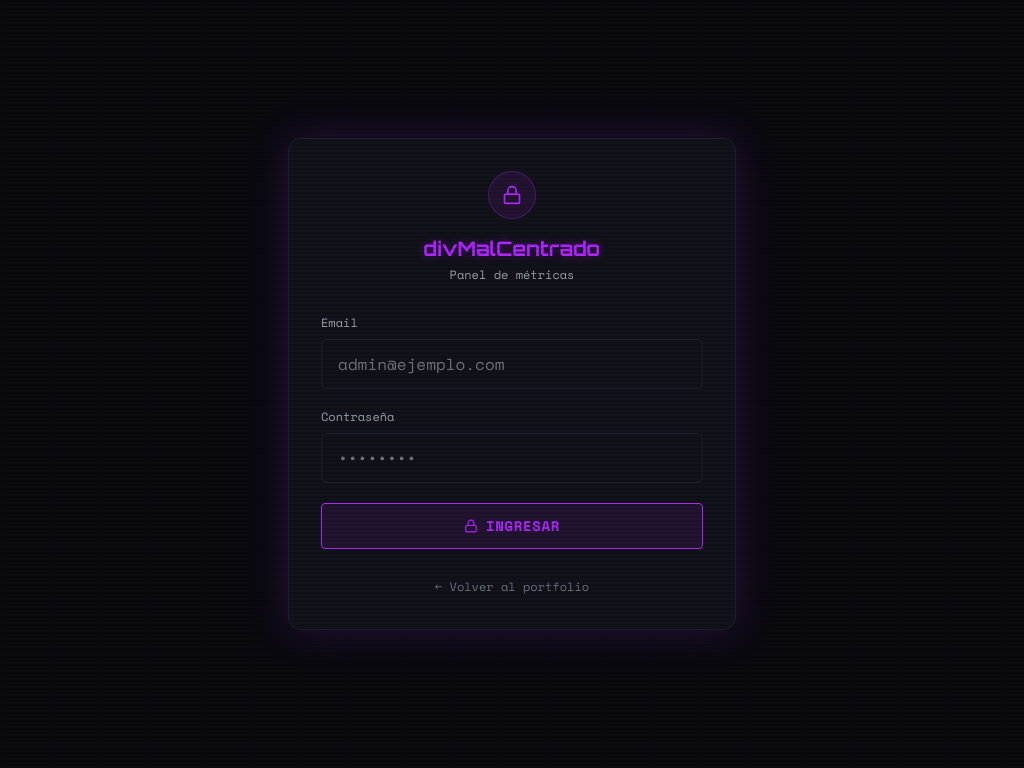
Test: Login Component › shows "Email o contraseña incorrectos" on 401
Type "admin@test.com" into the field with placeholder "admin@ejemplo.com" at coordinates (512, 364), box [321,339,703,389]
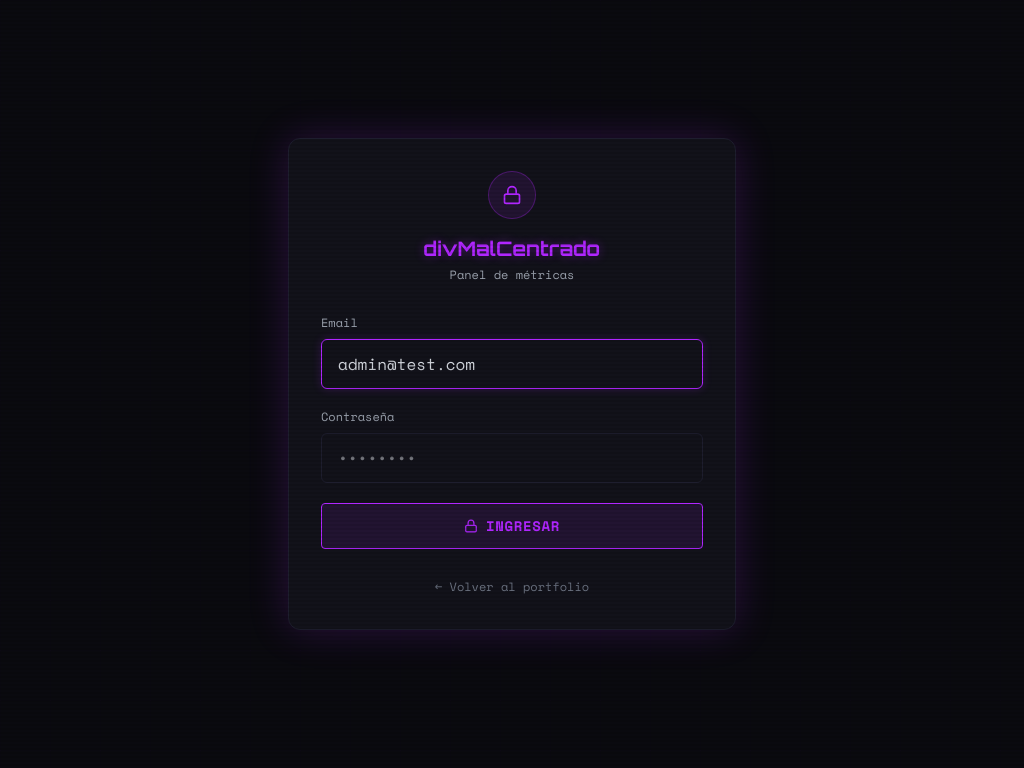
Type "password123" into the password field with placeholder "••••••••" at coordinates (512, 458), box [321,433,703,483]
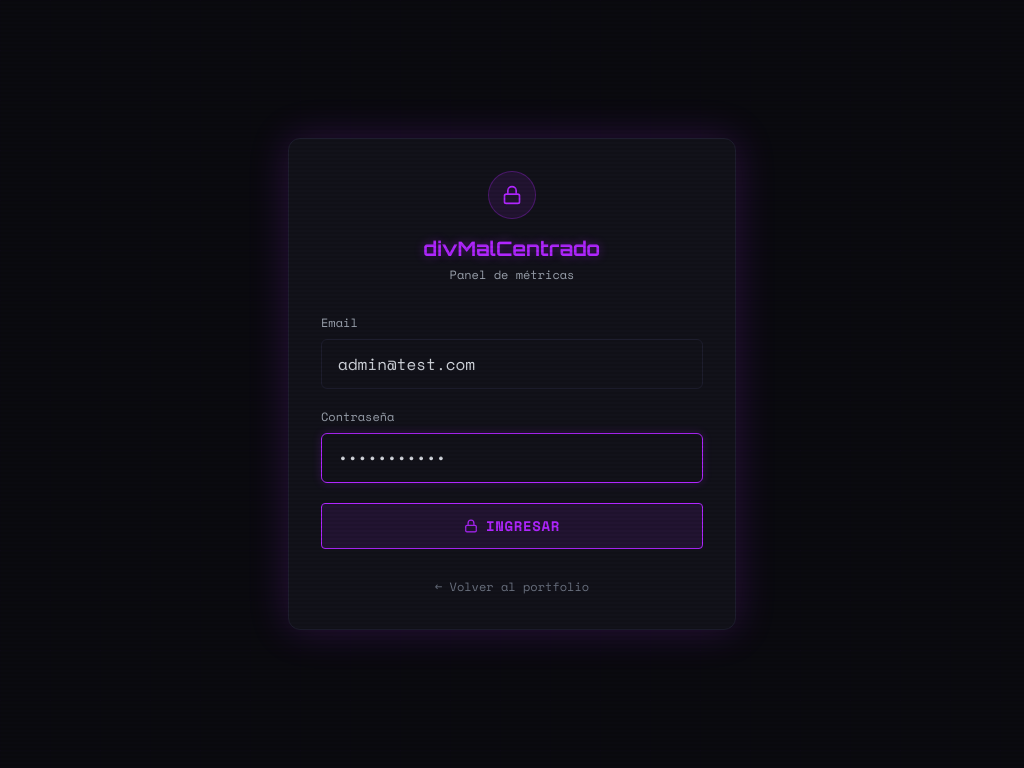
Click the button "Ingresar" at coordinates (512, 526), box [321,503,703,549]
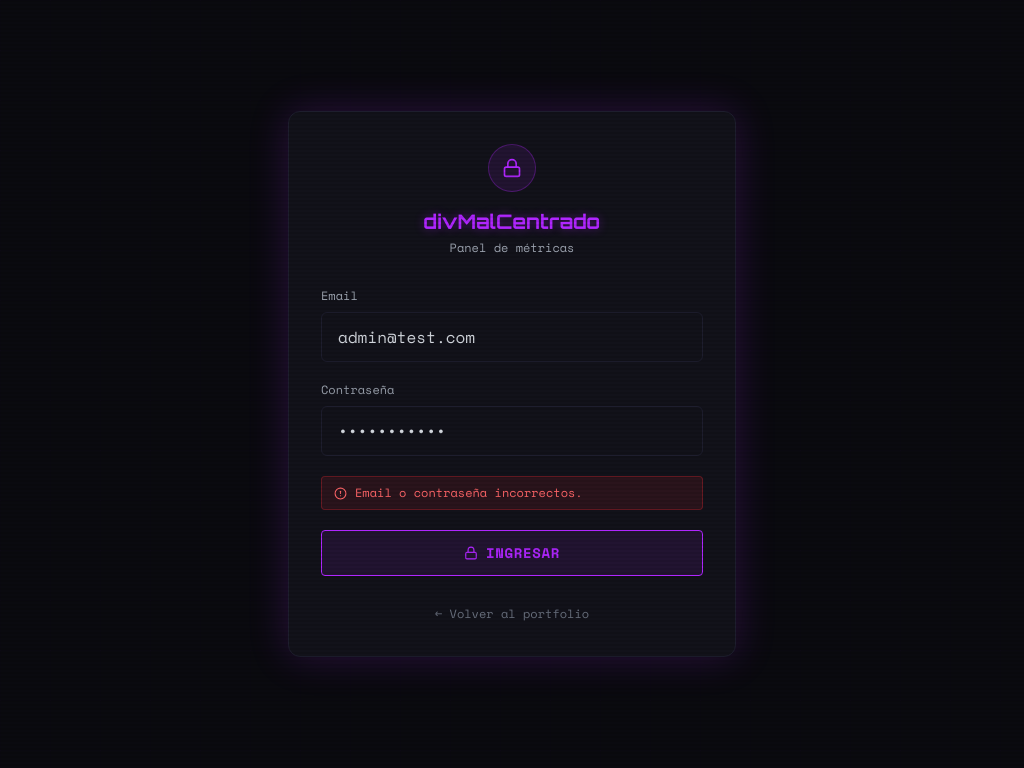
Now the text "Email o contraseña incorrectos." is shown, box [355,485,583,501]
